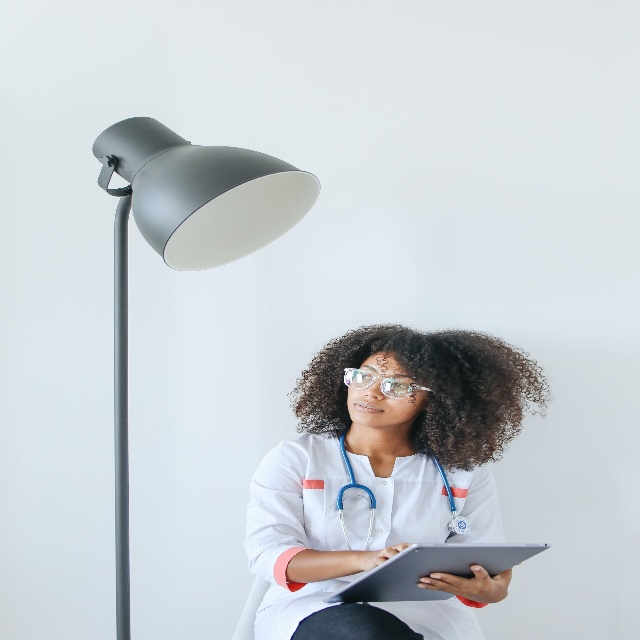Gafas: (344, 365, 432, 401)
Sin_guantes: (418, 545, 510, 604), (363, 542, 416, 572)
